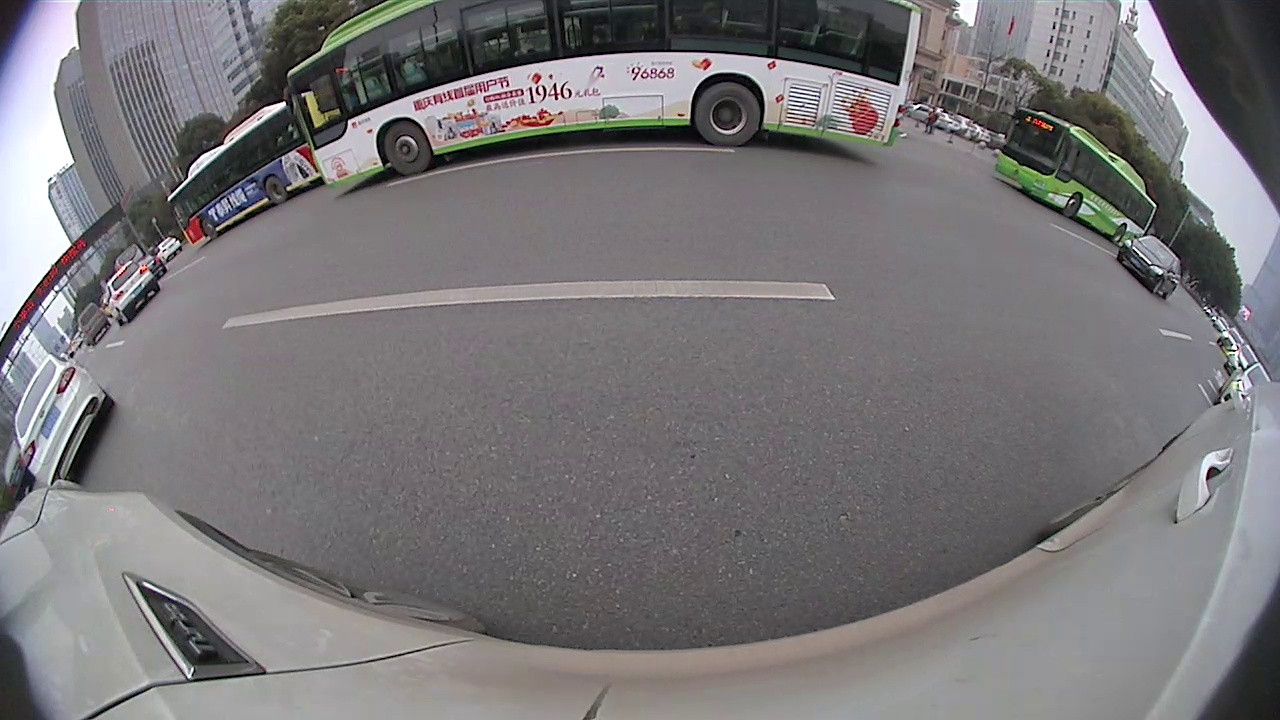bus: (283, 1, 921, 199), (163, 97, 321, 253), (996, 104, 1161, 251)
car: (13, 351, 116, 489), (1114, 231, 1186, 304), (102, 263, 163, 326)
front: (381, 121, 433, 176), (1063, 193, 1083, 218), (199, 217, 218, 242), (1150, 278, 1164, 298)
rear: (693, 79, 763, 148), (263, 175, 288, 206), (1112, 224, 1128, 244)
